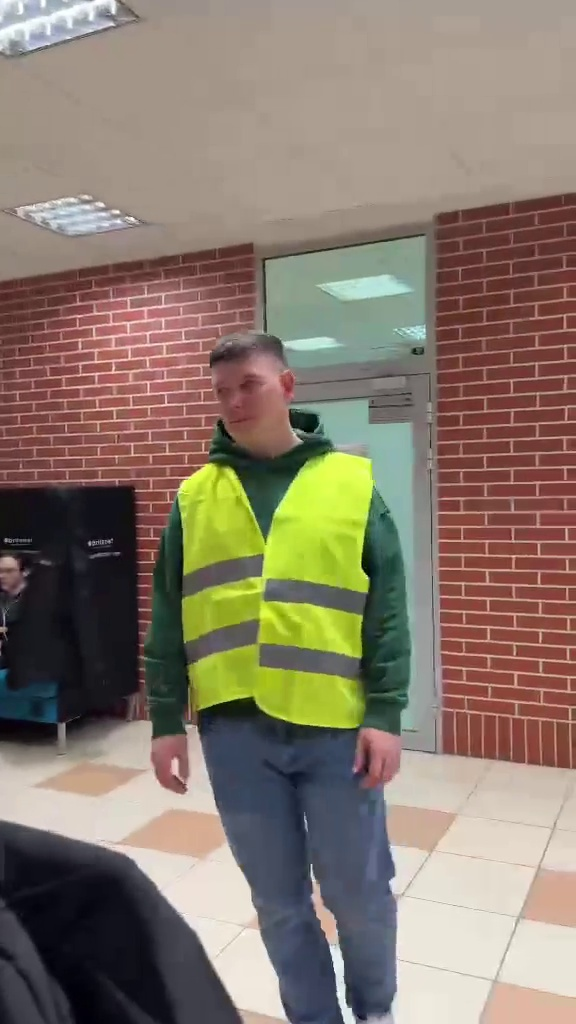vest: (148, 331, 410, 1021)
